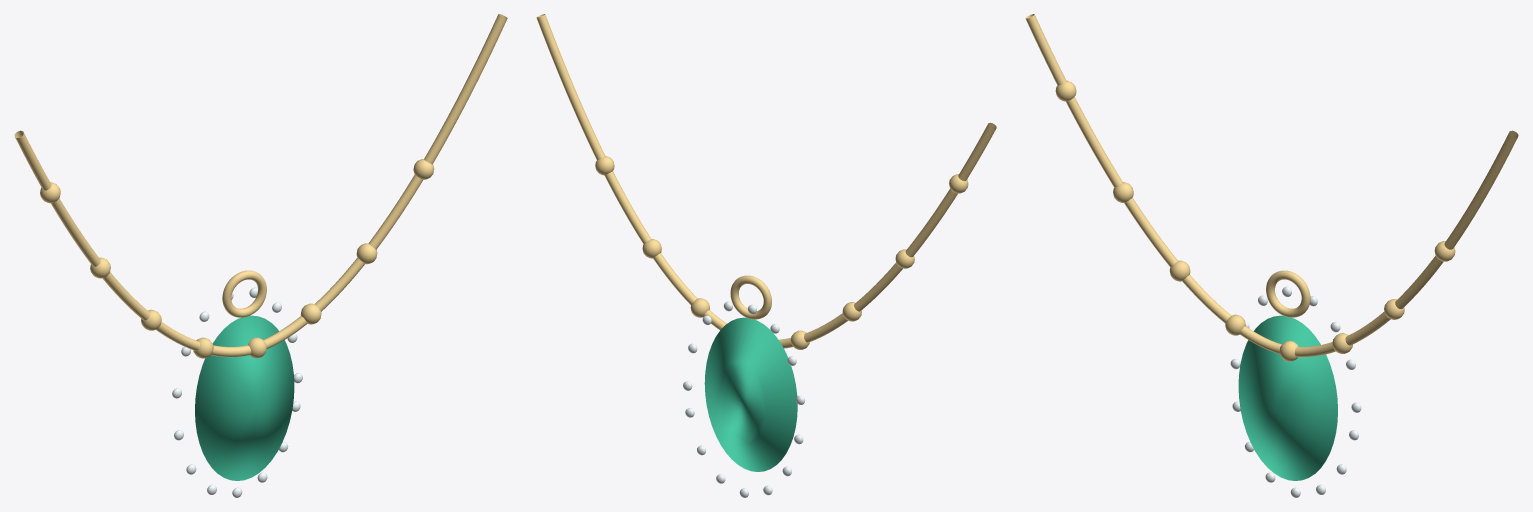
Rendered from oval-necklace.v3.safe.glb.
3 renders of one model, left to right at view 1: azimuth 30°, elevation 25°; view 2: azimuth 150°, elevation 25°; view 3: azimuth 330°, elevation 25°, orthographic. The views are drawn at different scales.
Parts seen in each view (by area): view 1: oval_green_gem, oval_continuous_chain, oval_bail; view 2: oval_green_gem, oval_continuous_chain, oval_bail; view 3: oval_green_gem, oval_continuous_chain, oval_bail.
Part boxes in pixels (<box>): oval_green_gem: <box>195,315,294,480</box>; oval_continuous_chain: <box>14,14,507,357</box>; oval_bail: <box>222,270,266,317</box>; oval_green_gem: <box>704,317,797,471</box>; oval_continuous_chain: <box>536,14,996,348</box>; oval_bail: <box>730,275,771,319</box>; oval_green_gem: <box>1238,315,1337,480</box>; oval_continuous_chain: <box>1025,14,1518,357</box>; oval_bail: <box>1266,270,1310,317</box>.
Bounding box in the file's own units: 1.38 × 1.19 × 0.1483.
